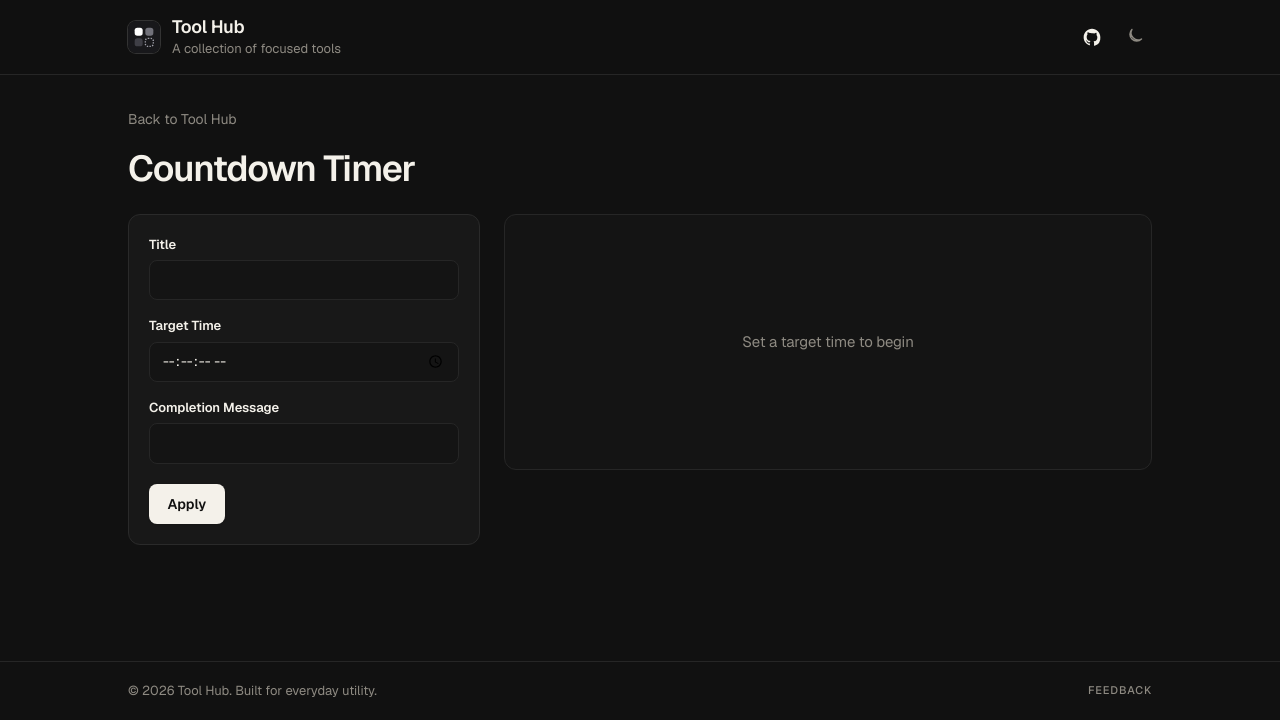
Test: Countdown Timer › rejects a Target Time that has already passed
This screenshot has width=1280, height=720.
Type "09:30" into the time field labelled "Target Time". click: (304, 362)
box: [149,342,459,382]
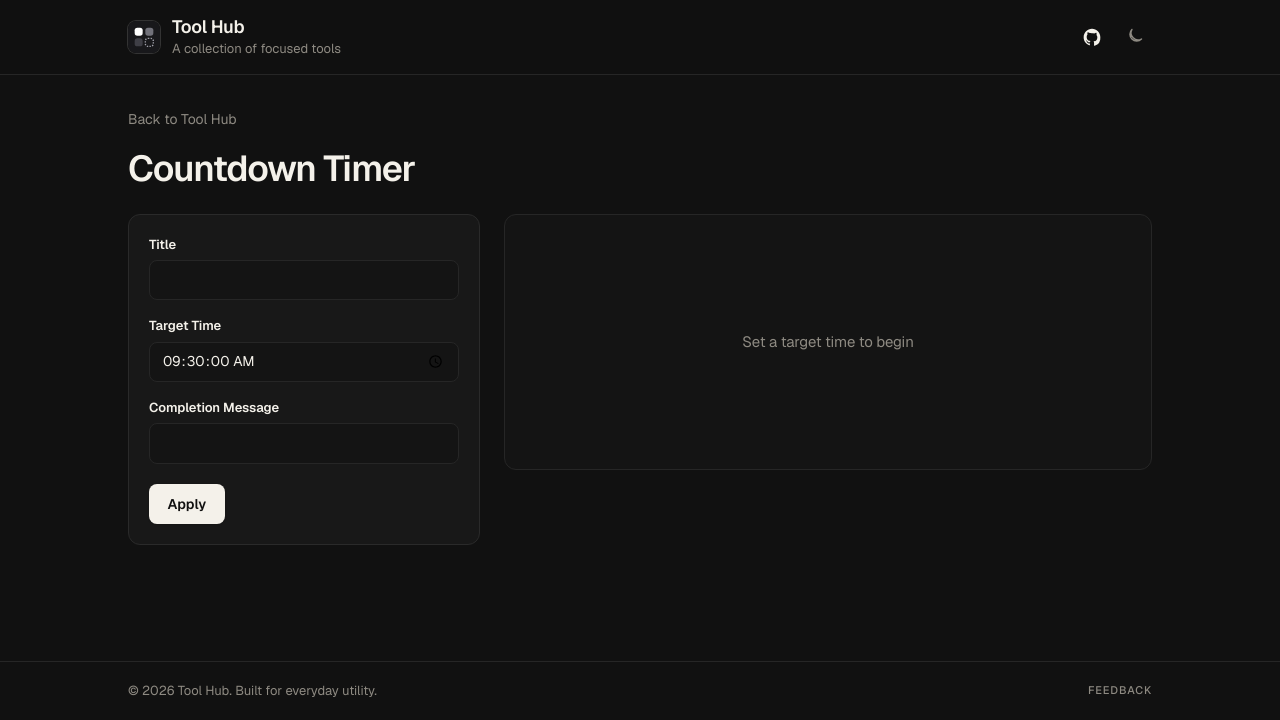
Click the button "Apply". click: (187, 504)
box: [149,484,225,524]
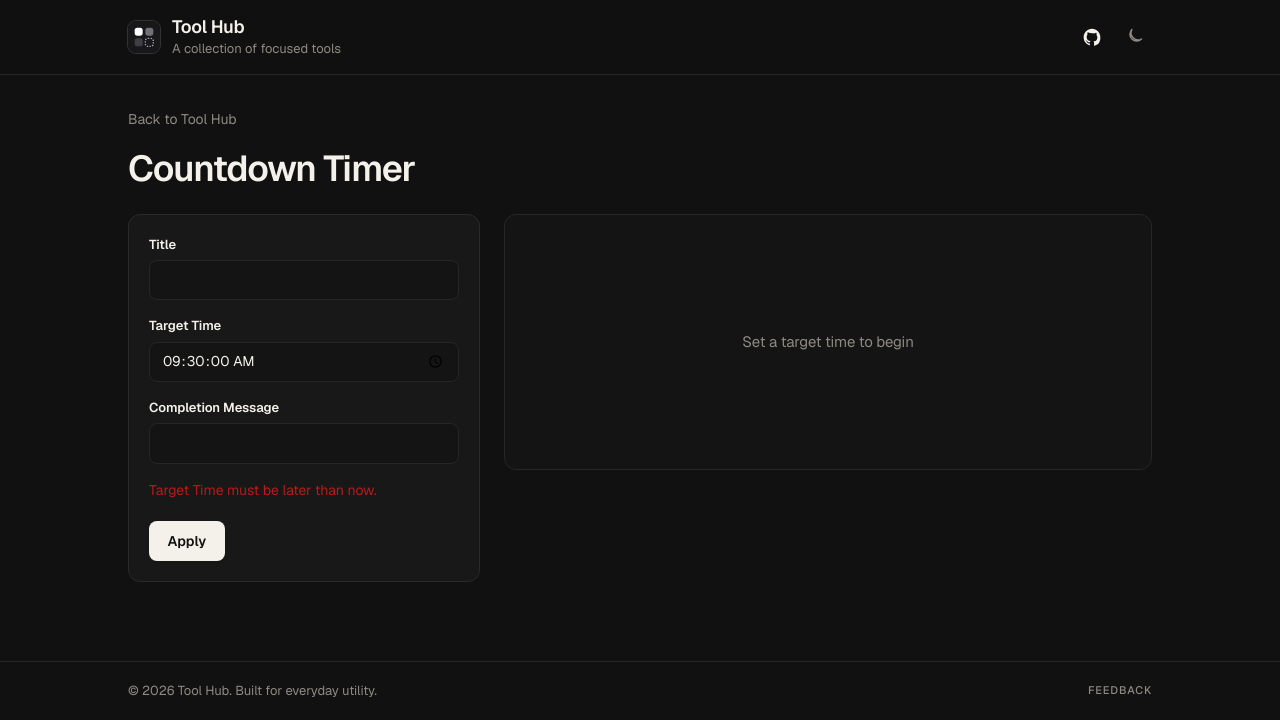
Expected: the message shows "Target Time must be later than now", [149,481,377,499]
